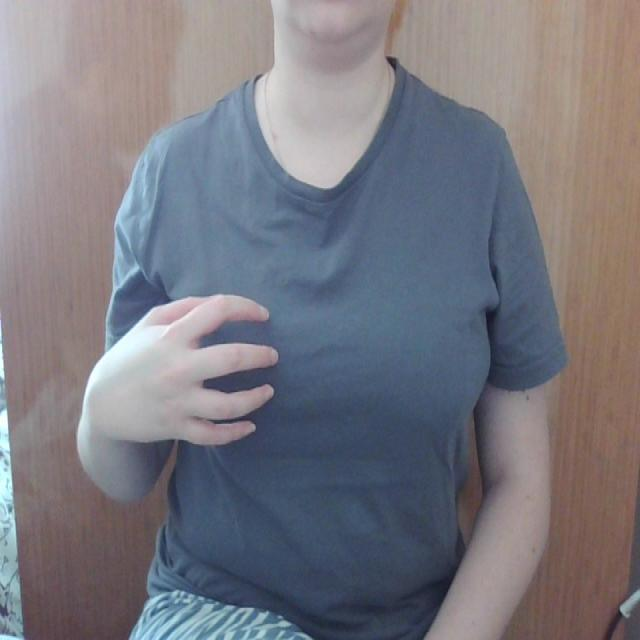Anne: (82, 267, 506, 463)
